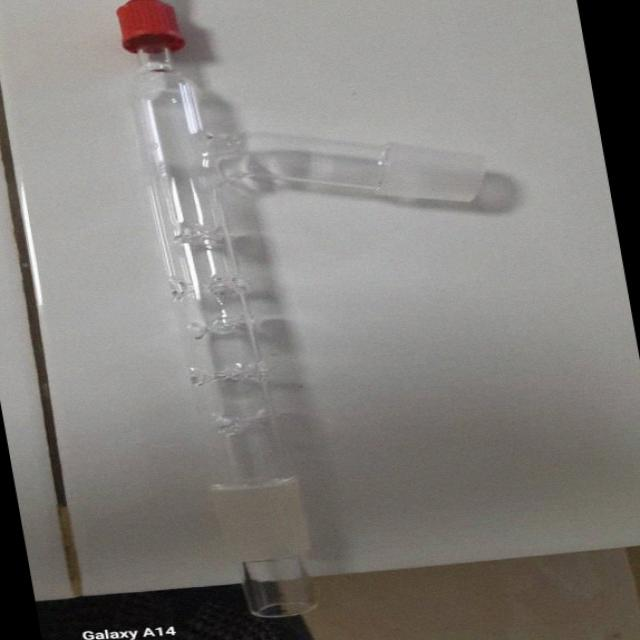Atmospherical Fractional Distillation: (76, 0, 586, 623)
